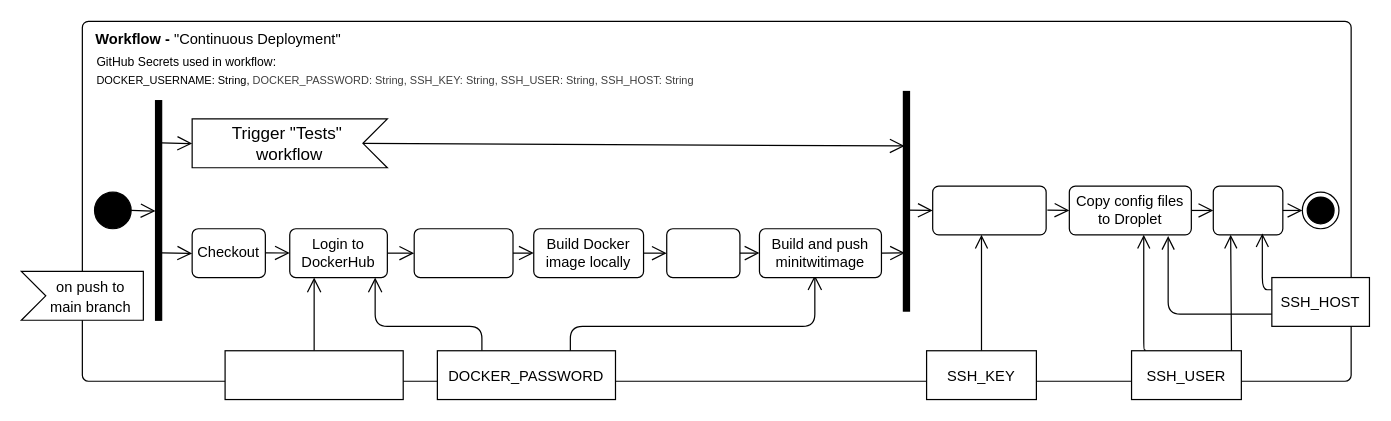
This 1391x421 diagram has some shape labels left out. Each missing label, with the centre of its shape:
"Configure SSH" belongs at point (988, 210).
"Deploy to server" belongs at point (1247, 210).
"DOCKER_USERNAME" belongs at point (313, 375).
"Run Dockle" belongs at point (703, 253).
"Set up Docker Buildx" belongs at point (463, 253).
